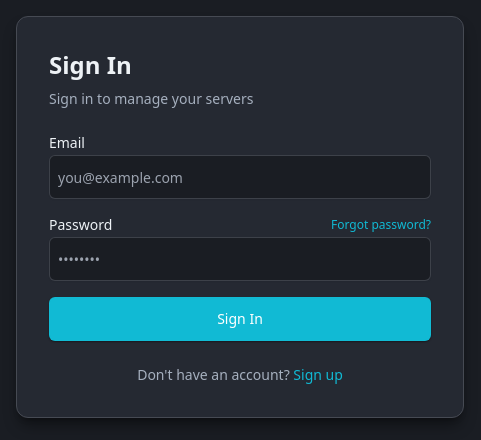
it: LoginPage › shows loading state during submission
Type "test@example.com" into the field labelled "Email" at (240, 177), box [49,155,431,199]
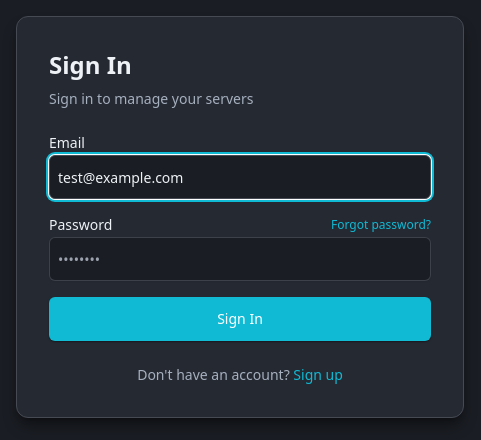
Type "password123" into the password field labelled "Password" at (240, 259), box [49,237,431,281]
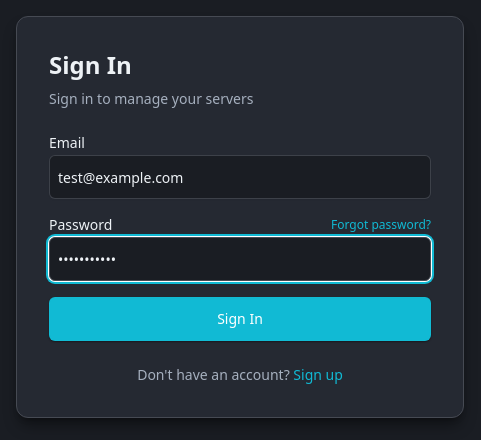
Click the button "Sign In" at (240, 319), box [49,297,431,341]
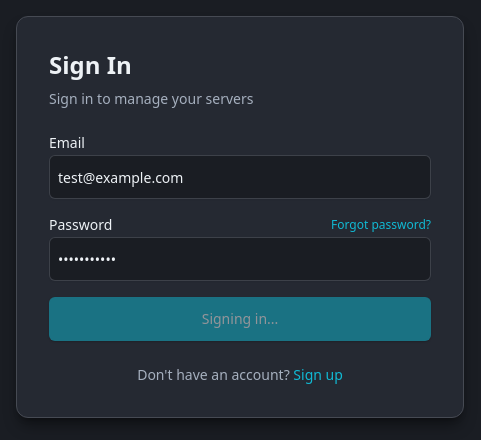
Expected: the heading "Sign In" is shown, [49,48,132,81]
Expected: the button "Signing in..." is disabled, [49,297,431,341]
